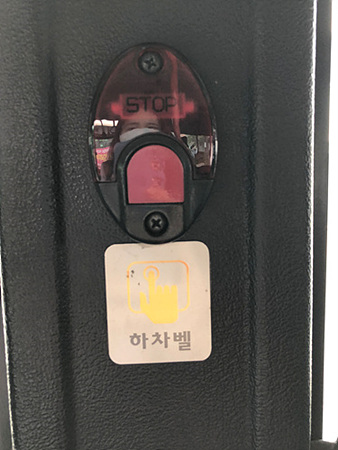bell: (86, 42, 226, 244)
